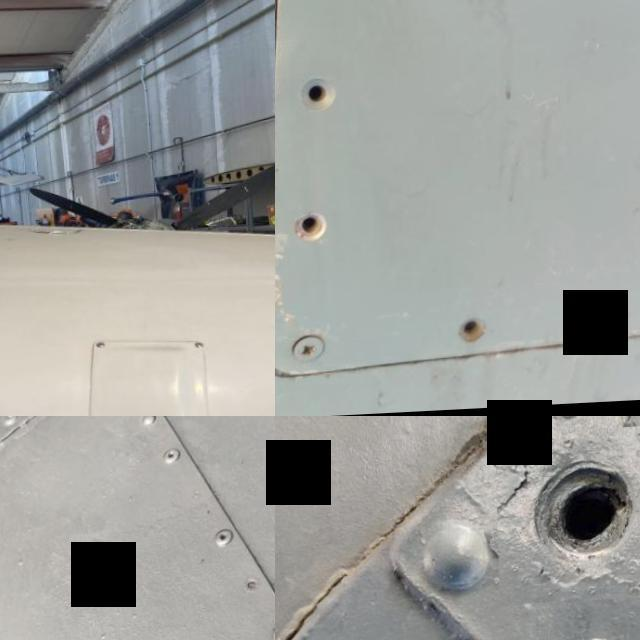Missing_Fastener: (493, 429, 640, 608), (275, 193, 343, 266), (282, 64, 350, 132), (430, 304, 503, 366), (575, 289, 640, 349)
